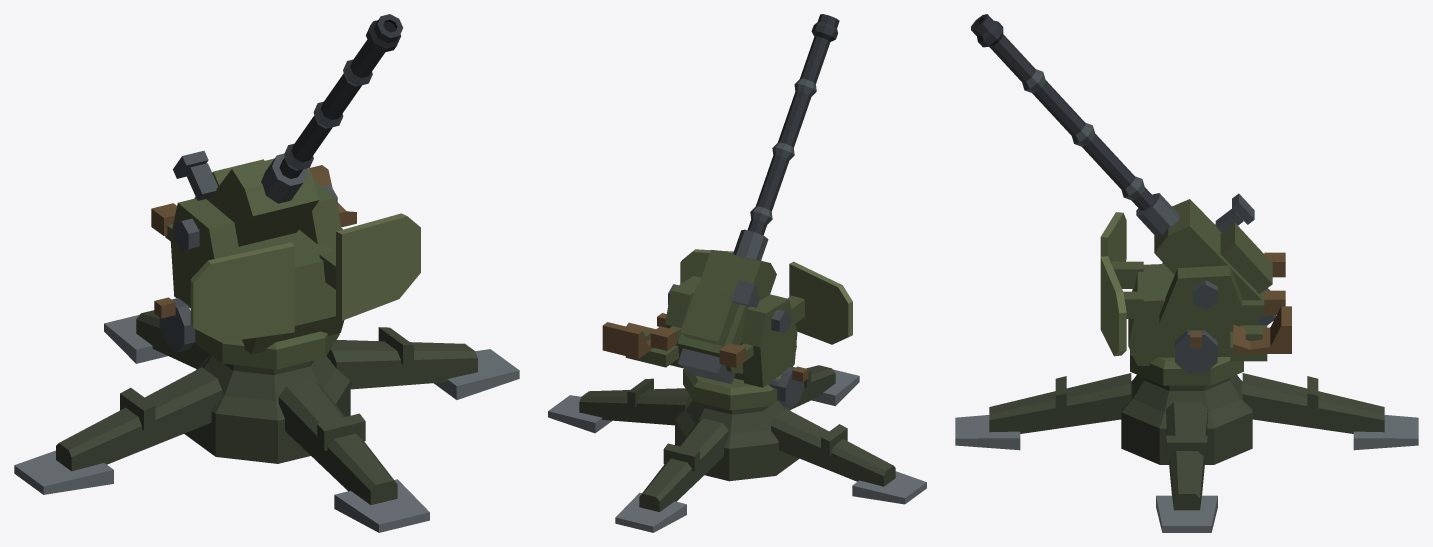
File: anti-aircraft-gun-93cc80.glb
3 views of the same model, side by side, from view 1: azimuth 30°, elevation 25°; view 2: azimuth 150°, elevation 25°; view 3: azimuth 270°, elevation 25° (orthographic). The views are drawn at different scales.
Visible parts, largest first — view 1: gun-base, gun-carriage, shield-plates, gun-cradle, gun-barrel; view 2: gun-base, gun-carriage, gun-cradle, gun-barrel, shield-plates; view 3: gun-base, gun-carriage, gun-cradle, gun-barrel, shield-plates.
Part boxes in pixels (x1=…): gun-base: x1=14, y1=310, x2=519, y2=532; gun-carriage: x1=151, y1=165, x2=356, y2=369; shield-plates: x1=190, y1=213, x2=420, y2=342; gun-cradle: x1=173, y1=150, x2=319, y2=246; gun-barrel: x1=261, y1=14, x2=402, y2=203; gun-base: x1=548, y1=365, x2=926, y2=532; gun-carriage: x1=602, y1=276, x2=808, y2=410; gun-cradle: x1=677, y1=250, x2=776, y2=384; gun-barrel: x1=733, y1=14, x2=839, y2=260; shield-plates: x1=680, y1=249, x2=852, y2=344; gun-base: x1=955, y1=373, x2=1418, y2=532; gun-carriage: x1=1128, y1=224, x2=1291, y2=385; gun-cradle: x1=1154, y1=193, x2=1275, y2=325; gun-barrel: x1=971, y1=14, x2=1179, y2=237; shield-plates: x1=1100, y1=212, x2=1143, y2=356.
Bounding box in the file's own units: 3 × 3.01 × 3.
